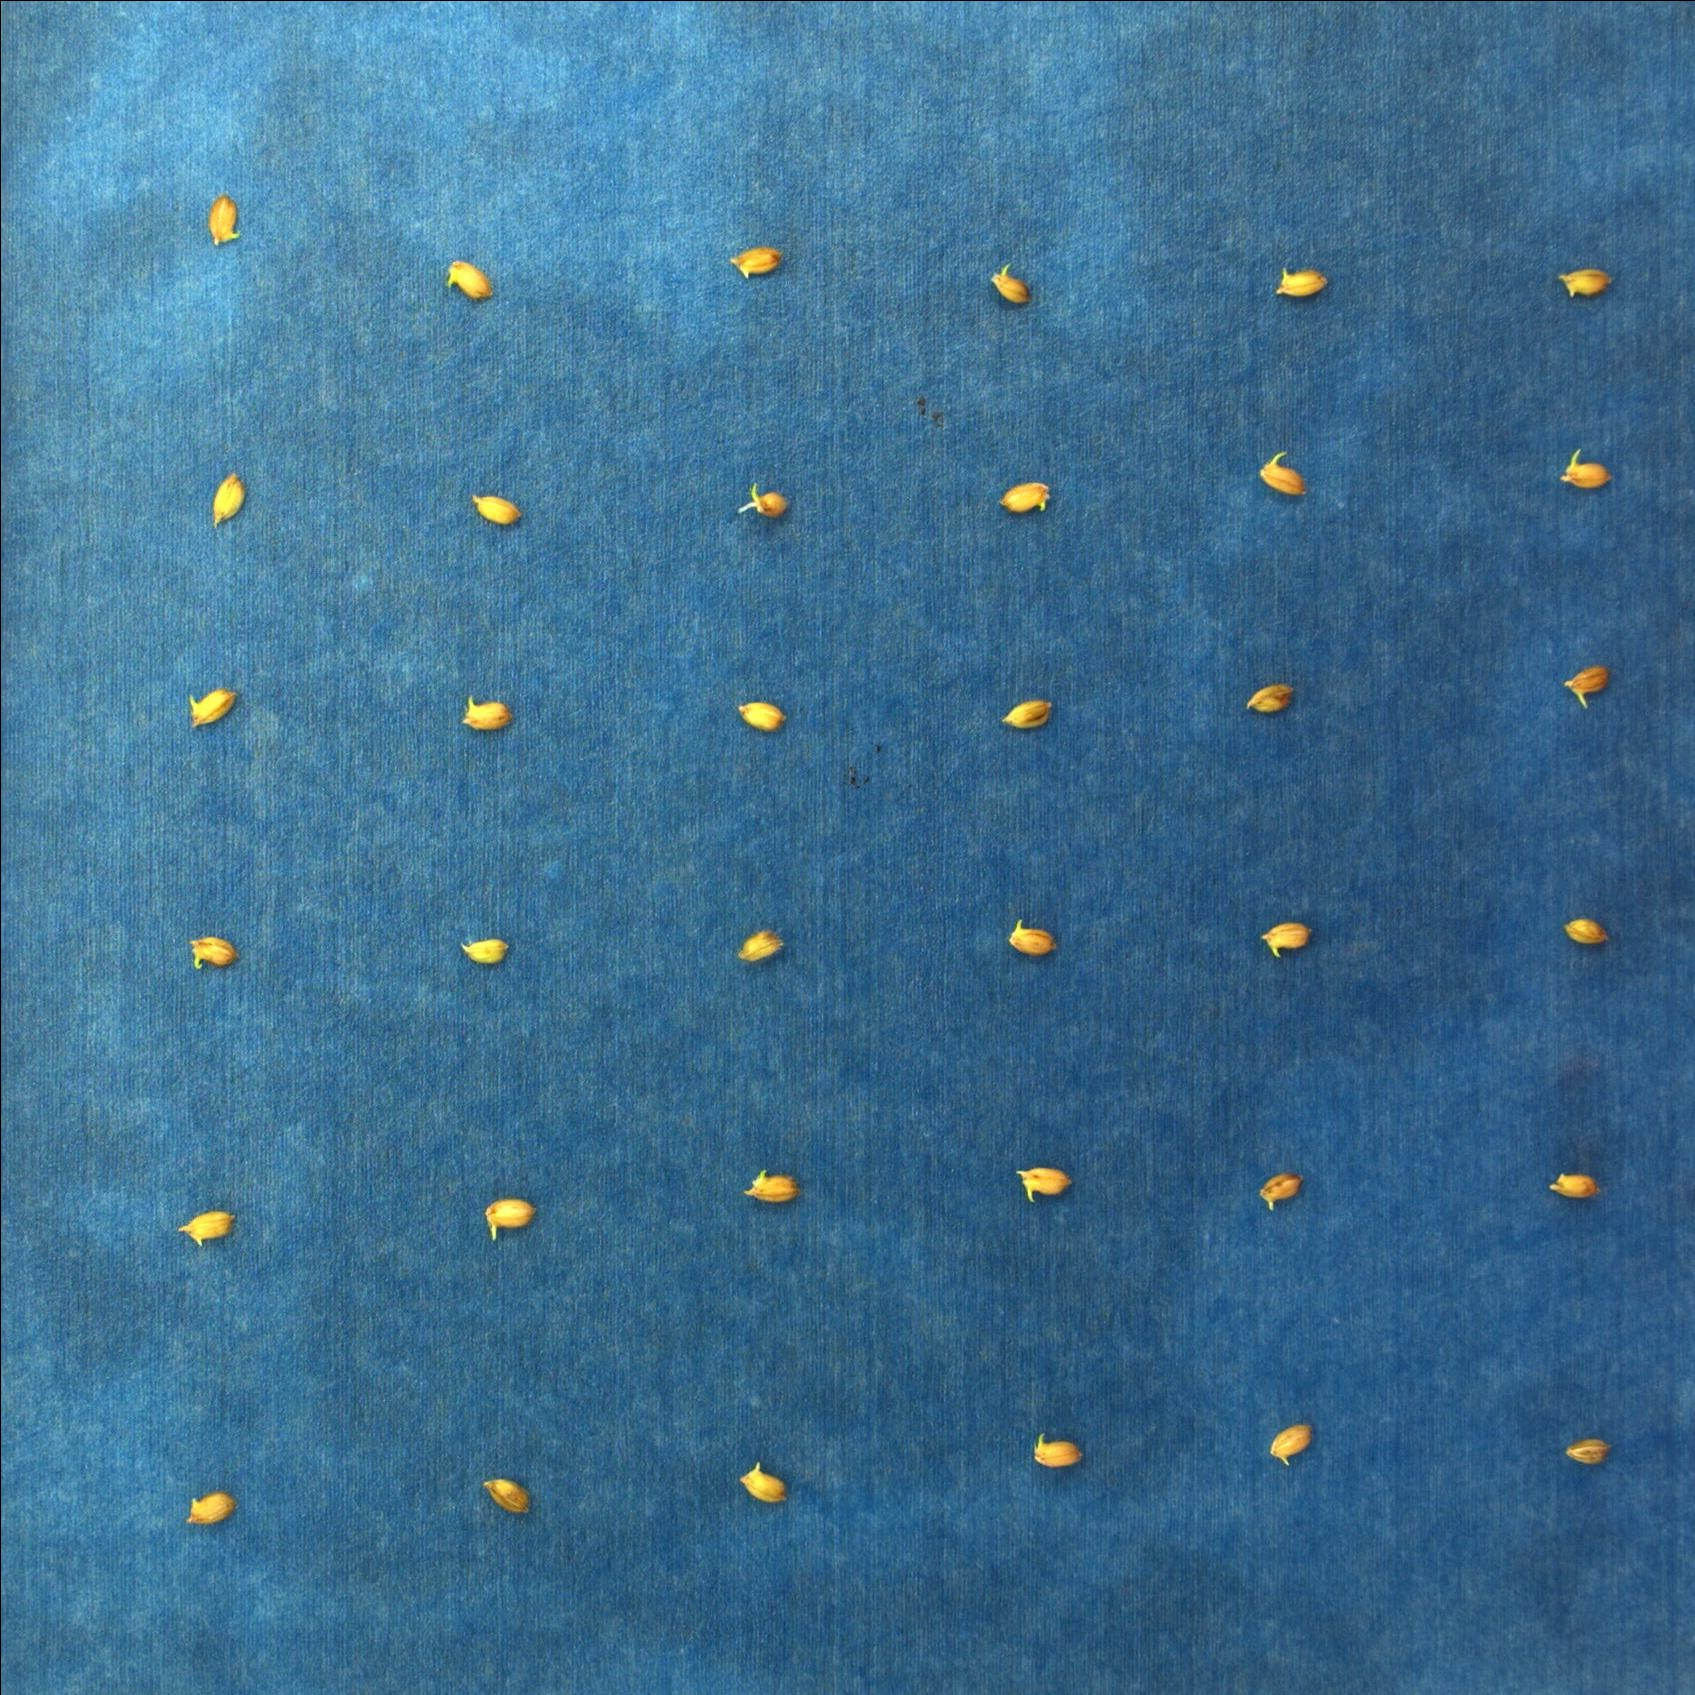not sprout: (1006, 1156, 1073, 1205), (1257, 1419, 1316, 1468), (1256, 914, 1318, 958), (175, 1206, 237, 1250), (483, 1192, 536, 1242), (206, 189, 248, 250), (1260, 449, 1313, 495), (1560, 444, 1614, 489), (1560, 663, 1613, 706), (1555, 262, 1616, 300), (442, 251, 492, 296), (208, 470, 247, 525), (480, 1473, 529, 1515), (740, 1173, 804, 1206), (1242, 681, 1302, 716), (458, 698, 511, 737), (1274, 264, 1329, 301), (189, 688, 237, 730), (737, 1464, 785, 1506), (469, 492, 525, 528), (1003, 917, 1055, 955), (998, 695, 1057, 726), (730, 700, 785, 733), (1029, 1433, 1082, 1467), (186, 931, 234, 969), (186, 1495, 236, 1530), (1260, 1173, 1304, 1214), (725, 245, 782, 275), (737, 483, 789, 515), (1560, 1436, 1616, 1464), (459, 931, 512, 961), (1562, 914, 1607, 948), (1544, 1173, 1599, 1201), (1000, 480, 1049, 509), (736, 930, 787, 958), (997, 267, 1031, 307)
